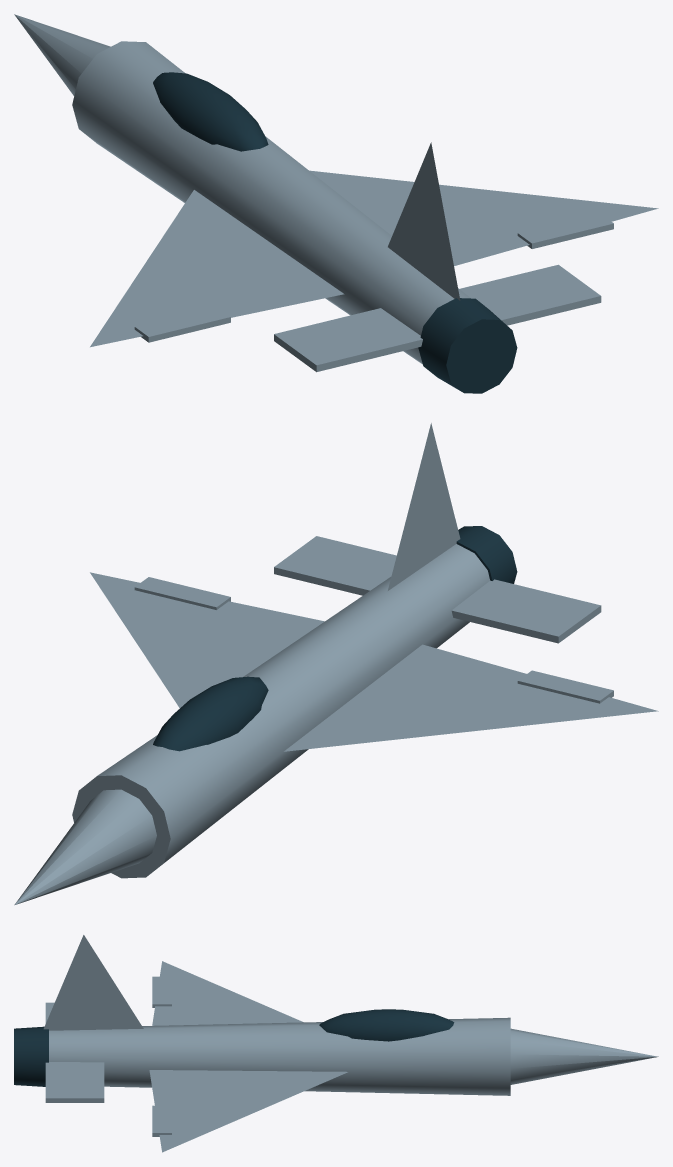
Rendered from training-fighter.glb.
3 views of the same model, one above another, from view 1: azimuth 30°, elevation 25°; view 2: azimuth 150°, elevation 25°; view 3: azimuth 270°, elevation 25° (orthographic). The views are drawn at different scales.
Visible parts, largest first — view 1: fuselage, wings, elevator, exhaust, canopy, rudder, nose, aileron_left, aileron_right; view 2: fuselage, wings, elevator, nose, rudder, canopy, exhaust, aileron_left, aileron_right; view 3: fuselage, wings, rudder, nose, canopy, elevator, exhaust, aileron_left, aileron_right.
Boxes of the visible parts, bbox=[...] form: fuselage: bbox=[72, 41, 470, 364]; wings: bbox=[90, 170, 658, 347]; elevator: bbox=[274, 264, 601, 372]; exhaust: bbox=[418, 298, 517, 393]; canopy: bbox=[153, 72, 268, 151]; rudder: bbox=[388, 142, 460, 300]; nose: bbox=[14, 14, 110, 95]; aileron_left: bbox=[134, 306, 230, 342]; aileron_right: bbox=[517, 213, 613, 248]; fuselage: bbox=[72, 544, 489, 878]; wings: bbox=[90, 572, 658, 751]; elevator: bbox=[274, 536, 601, 643]; nose: bbox=[14, 789, 156, 905]; rudder: bbox=[388, 423, 460, 590]; canopy: bbox=[153, 676, 268, 751]; exhaust: bbox=[456, 526, 517, 583]; aileron_left: bbox=[517, 670, 613, 703]; aileron_right: bbox=[134, 577, 230, 609]; fuselage: bbox=[49, 1017, 510, 1095]; wings: bbox=[149, 961, 347, 1152]; rudder: bbox=[43, 935, 143, 1030]; nose: bbox=[510, 1028, 658, 1084]; canopy: bbox=[319, 1009, 454, 1041]; elevator: bbox=[45, 1002, 104, 1102]; exhaust: bbox=[14, 1026, 48, 1086]; aileron_left: bbox=[152, 976, 171, 1007]; aileron_right: bbox=[152, 1105, 171, 1136].
Bounding box in the file's own units: 10.4 × 4 × 14.8.
